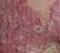plaque psoriasis: (0, 0, 48, 50), (0, 6, 49, 53), (49, 0, 60, 53)
